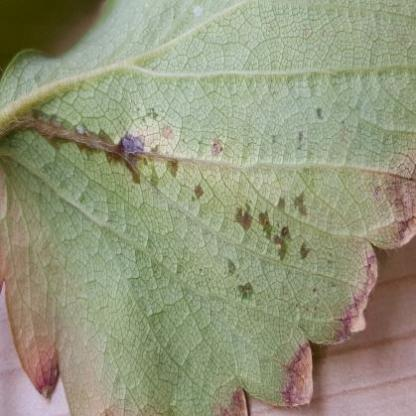Strawberry_Angular_LeafSpot: (0, 99, 415, 415)
